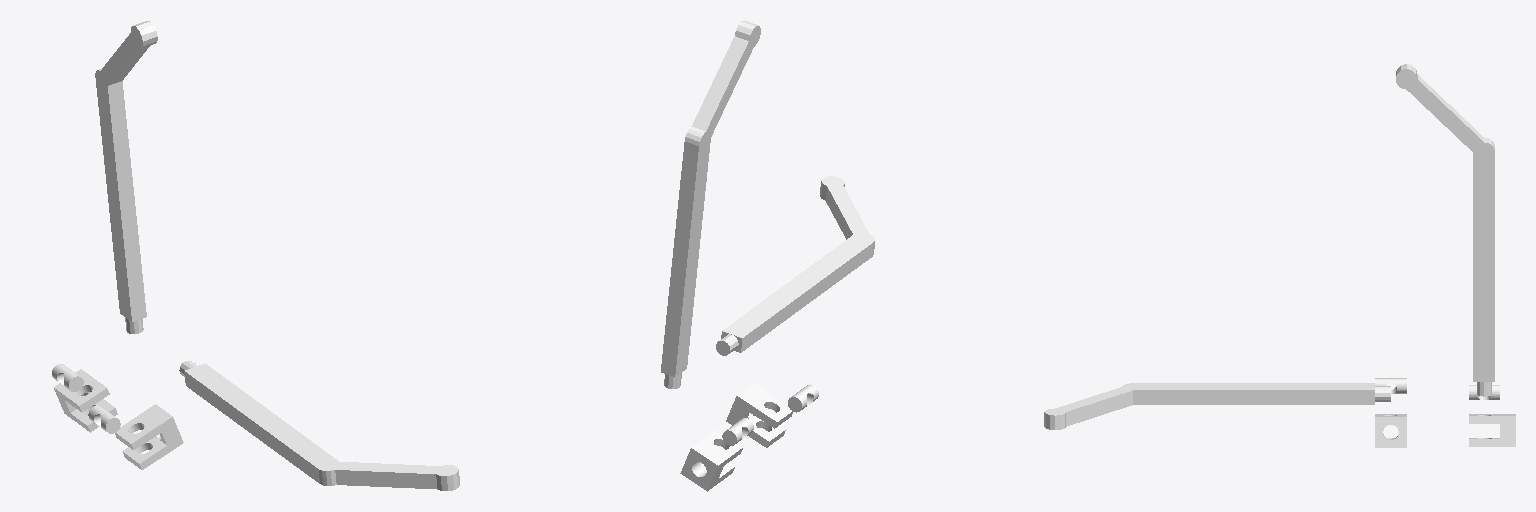
URDF robot description (leg-1):
<?xml version="1.0" encoding="utf-8"?>
<!-- This URDF was automatically created by SolidWorks to URDF Exporter! Originally created by [author] ([email redacted]) 
     Commit Version: 1.6.0-1-g15f4949  Build Version: 1.6.7594.29634
     For more information, please see http://wiki.ros.org/sw_urdf_exporter -->
<robot
  name="leg-1">
  <link
    name="base_link">
    <inertial>
      <origin
        xyz="0.00500000000000839 -1.52655665885959E-16 2.26901830657766E-15"
        rpy="0 0 0" />
      <mass
        value="0.0714345133223539" />
      <inertia
        ixx="0.000107488517300069"
        ixy="-3.46140116465866E-22"
        ixz="2.79534425121075E-22"
        iyy="2.21940152659949E-05"
        iyz="4.12419664391761E-21"
        izz="8.64850772561134E-05" />
    </inertial>
    <visual>
      <origin
        xyz="0 0 0"
        rpy="0 0 0" />
      <geometry>
        <mesh
          filename="package://leg-1/meshes/base_link.STL" />
      </geometry>
      <material
        name="">
        <color
          rgba="0.792156862745098 0.819607843137255 0.933333333333333 1" />
      </material>
    </visual>
    <collision>
      <origin
        xyz="0 0 0"
        rpy="0 0 0" />
      <geometry>
        <mesh
          filename="package://leg-1/meshes/base_link.STL" />
      </geometry>
    </collision>
  </link>
  <link
    name="L_L_0">
    <inertial>
      <origin
        xyz="0.0347045724498886 6.93889390390723E-18 0"
        rpy="0 0 0" />
      <mass
        value="0.0287119470120282" />
      <inertia
        ixx="8.60004636787432E-06"
        ixy="-8.40317402851747E-22"
        ixz="4.7123889803847E-07"
        iyy="1.45035728084546E-05"
        iyz="-9.0904602929962E-22"
        izz="6.37861884682507E-06" />
    </inertial>
    <visual>
      <origin
        xyz="0 0 0"
        rpy="0 0 0" />
      <geometry>
        <mesh
          filename="package://leg-1/meshes/L_L_0.STL" />
      </geometry>
      <material
        name="">
        <color
          rgba="1 1 1 1" />
      </material>
    </visual>
    <collision>
      <origin
        xyz="0 0 0"
        rpy="0 0 0" />
      <geometry>
        <mesh
          filename="package://leg-1/meshes/L_L_0.STL" />
      </geometry>
    </collision>
  </link>
  <joint
    name="J_L_0"
    type="continuous">
    <origin
      xyz="0 -0.0300000000000002 0"
      rpy="0 0 0" />
    <parent
      link="base_link" />
    <child
      link="L_L_0" />
    <axis
      xyz="-1 0 0" />
  </joint>
  <link
    name="L_L_1">
    <inertial>
      <origin
        xyz="0.055 -2.60208521396521E-18 2.77555756156289E-16"
        rpy="0 0 0" />
      <mass
        value="0.0117853981633975" />
      <inertia
        ixx="1.94787056549548E-07"
        ixy="1.49554254749587E-21"
        ixz="-3.71771611790501E-22"
        iyy="1.37539498341602E-05"
        iyz="-5.50007019477419E-23"
        izz="1.37523135879864E-05" />
    </inertial>
    <visual>
      <origin
        xyz="0 0 0"
        rpy="0 0 0" />
      <geometry>
        <mesh
          filename="package://leg-1/meshes/L_L_1.STL" />
      </geometry>
      <material
        name="">
        <color
          rgba="1 1 1 1" />
      </material>
    </visual>
    <collision>
      <origin
        xyz="0 0 0"
        rpy="0 0 0" />
      <geometry>
        <mesh
          filename="package://leg-1/meshes/L_L_1.STL" />
      </geometry>
    </collision>
  </link>
  <joint
    name="J_L_1"
    type="continuous">
    <origin
      xyz="0.02 0 -0.02"
      rpy="1.5707963267949 1.1930252649831 0" />
    <parent
      link="L_L_0" />
    <child
      link="L_L_1" />
    <axis
      xyz="0 0 -1" />
  </joint>
  <link
    name="L_L_2">
    <inertial>
      <origin
        xyz="0.0300000000000002 -1.04083408558608E-16 2.42861286636753E-16"
        rpy="0 0 0" />
      <mass
        value="0.00678539816339746" />
      <inertia
        ixx="1.11453723216213E-07"
        ixy="4.38405724653105E-23"
        ixz="1.06732828936123E-22"
        iyy="2.66831207027392E-06"
        iyz="-1.08522797058199E-23"
        izz="2.66667582410018E-06" />
    </inertial>
    <visual>
      <origin
        xyz="0 0 0"
        rpy="0 0 0" />
      <geometry>
        <mesh
          filename="package://leg-1/meshes/L_L_2.STL" />
      </geometry>
      <material
        name="">
        <color
          rgba="1 1 1 1" />
      </material>
    </visual>
    <collision>
      <origin
        xyz="0 0 0"
        rpy="0 0 0" />
      <geometry>
        <mesh
          filename="package://leg-1/meshes/L_L_2.STL" />
      </geometry>
    </collision>
  </link>
  <joint
    name="J_L_2"
    type="continuous">
    <origin
      xyz="0.05 0 0.02"
      rpy="1.5707963267949 -0.105433031631919 0" />
    <parent
      link="L_L_0" />
    <child
      link="L_L_2" />
    <axis
      xyz="0 0 -1" />
  </joint>
  <link
    name="L_L_3">
    <inertial>
      <origin
        xyz="0.0599999999999999 -1.38777878078145E-17 2.42861286636753E-16"
        rpy="0 0 0" />
      <mass
        value="0.0127853981633975" />
      <inertia
        ixx="2.11453723216213E-07"
        ixy="-6.47268829322744E-23"
        ixz="1.8009833248511E-22"
        iyy="1.7538887111447E-05"
        iyz="2.88084954994868E-24"
        izz="1.75372508652733E-05" />
    </inertial>
    <visual>
      <origin
        xyz="0 0 0"
        rpy="0 0 0" />
      <geometry>
        <mesh
          filename="package://leg-1/meshes/L_L_3.STL" />
      </geometry>
      <material
        name="">
        <color
          rgba="1 1 1 1" />
      </material>
    </visual>
    <collision>
      <origin
        xyz="0 0 0"
        rpy="0 0 0" />
      <geometry>
        <mesh
          filename="package://leg-1/meshes/L_L_3.STL" />
      </geometry>
    </collision>
  </link>
  <joint
    name="J_L_3"
    type="continuous">
    <origin
      xyz="0.0600000000000002 0 0"
      rpy="0 0 -1.69372933441083" />
    <parent
      link="L_L_2" />
    <child
      link="L_L_3" />
    <axis
      xyz="0 0 -1" />
  </joint>
  <link
    name="L_R_0">
    <inertial>
      <origin
        xyz="0.0347045724498886 1.38777878078145E-17 6.93889390390723E-18"
        rpy="0 0 0" />
      <mass
        value="0.0287119470120282" />
      <inertia
        ixx="8.60004636787433E-06"
        ixy="3.66338637434803E-22"
        ixz="4.71238898038473E-07"
        iyy="1.45035728084546E-05"
        iyz="-1.00827065219892E-21"
        izz="6.37861884682508E-06" />
    </inertial>
    <visual>
      <origin
        xyz="0 0 0"
        rpy="0 0 0" />
      <geometry>
        <mesh
          filename="package://leg-1/meshes/L_R_0.STL" />
      </geometry>
      <material
        name="">
        <color
          rgba="1 1 1 1" />
      </material>
    </visual>
    <collision>
      <origin
        xyz="0 0 0"
        rpy="0 0 0" />
      <geometry>
        <mesh
          filename="package://leg-1/meshes/L_R_0.STL" />
      </geometry>
    </collision>
  </link>
  <joint
    name="J_R_0"
    type="continuous">
    <origin
      xyz="0 0.0299999999999998 0"
      rpy="0 0 0" />
    <parent
      link="base_link" />
    <child
      link="L_R_0" />
    <axis
      xyz="-1 0 0" />
  </joint>
  <link
    name="L_R_1">
    <inertial>
      <origin
        xyz="0.055 -2.60208521396521E-18 2.77555756156289E-17"
        rpy="0 0 0" />
      <mass
        value="0.0117853981633974" />
      <inertia
        ixx="1.94787056549545E-07"
        ixy="6.81596824743695E-22"
        ixz="-2.13869524916916E-22"
        iyy="1.37539498341602E-05"
        iyz="-4.95780048310639E-24"
        izz="1.37523135879864E-05" />
    </inertial>
    <visual>
      <origin
        xyz="0 0 0"
        rpy="0 0 0" />
      <geometry>
        <mesh
          filename="package://leg-1/meshes/L_R_1.STL" />
      </geometry>
      <material
        name="">
        <color
          rgba="1 1 1 1" />
      </material>
    </visual>
    <collision>
      <origin
        xyz="0 0 0"
        rpy="0 0 0" />
      <geometry>
        <mesh
          filename="package://leg-1/meshes/L_R_1.STL" />
      </geometry>
    </collision>
  </link>
  <joint
    name="J_R_1"
    type="continuous">
    <origin
      xyz="0.02 0 -0.0199999999999999"
      rpy="-1.57079632679489 1.1930252649831 0" />
    <parent
      link="L_R_0" />
    <child
      link="L_R_1" />
    <axis
      xyz="0 0 1" />
  </joint>
  <link
    name="L_R_2">
    <inertial>
      <origin
        xyz="0.0300000000000002 -9.71445146547012E-17 -2.77555756156289E-17"
        rpy="0 0 0" />
      <mass
        value="0.00678539816339745" />
      <inertia
        ixx="1.11453723216213E-07"
        ixy="0"
        ixz="1.44873085317511E-22"
        iyy="2.66831207027392E-06"
        iyz="-2.54756782238847E-23"
        izz="2.66667582410017E-06" />
    </inertial>
    <visual>
      <origin
        xyz="0 0 0"
        rpy="0 0 0" />
      <geometry>
        <mesh
          filename="package://leg-1/meshes/L_R_2.STL" />
      </geometry>
      <material
        name="">
        <color
          rgba="1 1 1 1" />
      </material>
    </visual>
    <collision>
      <origin
        xyz="0 0 0"
        rpy="0 0 0" />
      <geometry>
        <mesh
          filename="package://leg-1/meshes/L_R_2.STL" />
      </geometry>
    </collision>
  </link>
  <joint
    name="J_R_2"
    type="continuous">
    <origin
      xyz="0.05 0 0.02"
      rpy="1.5707963267949 -0.105433031631919 0" />
    <parent
      link="L_R_0" />
    <child
      link="L_R_2" />
    <axis
      xyz="0 0 -1" />
  </joint>
  <link
    name="L_R_3">
    <inertial>
      <origin
        xyz="0.06 1.38777878078145E-17 -5.55111512312578E-17"
        rpy="0 0 0" />
      <mass
        value="0.0127853981633974" />
      <inertia
        ixx="2.11453723216212E-07"
        ixy="3.48656628191101E-22"
        ixz="1.27630711144238E-22"
        iyy="1.7538887111447E-05"
        iyz="8.6574693929884E-24"
        izz="1.75372508652733E-05" />
    </inertial>
    <visual>
      <origin
        xyz="0 0 0"
        rpy="0 0 0" />
      <geometry>
        <mesh
          filename="package://leg-1/meshes/L_R_3.STL" />
      </geometry>
      <material
        name="">
        <color
          rgba="1 1 1 1" />
      </material>
    </visual>
    <collision>
      <origin
        xyz="0 0 0"
        rpy="0 0 0" />
      <geometry>
        <mesh
          filename="package://leg-1/meshes/L_R_3.STL" />
      </geometry>
    </collision>
  </link>
  <joint
    name="J_R_3"
    type="continuous">
    <origin
      xyz="0.0600000000000002 0 0"
      rpy="0 0 -1.69372933441082" />
    <parent
      link="L_R_2" />
    <child
      link="L_R_3" />
    <axis
      xyz="0 0 -1" />
  </joint>
</robot>

--- Facts derived from the render (not from the file) ---
3 views of the same robot in one strip: view 1: azimuth 30°, elevation 25°; view 2: azimuth 150°, elevation 25°; view 3: azimuth 270°, elevation 25° (orthographic).
Robot: leg-1 — 9 links, 8 joints (8 continuous); root link base_link; default pose: every joint at zero.
Links seen in each view (by area): view 1: L_L_2, L_R_2, L_L_1, L_R_1, L_L_0, L_R_0; view 2: L_R_2, L_L_2, L_L_1, L_R_1, L_R_0; view 3: L_R_2, L_L_2, L_R_1, L_L_1.
Link boxes in pixels (<box>): L_L_2: <box>179,360,459,490</box>; L_R_2: <box>95,21,157,333</box>; L_L_1: <box>115,404,183,469</box>; L_R_1: <box>54,369,117,432</box>; L_L_0: <box>88,405,120,433</box>; L_R_0: <box>52,364,83,391</box>; L_R_2: <box>661,21,760,388</box>; L_L_2: <box>716,176,874,355</box>; L_L_1: <box>726,383,792,447</box>; L_R_1: <box>680,429,742,491</box>; L_R_0: <box>722,418,753,445</box>; L_R_2: <box>1396,64,1494,396</box>; L_L_2: <box>1044,383,1390,429</box>; L_R_1: <box>1469,414,1515,446</box>; L_L_1: <box>1375,414,1406,447</box>.
Bounding box of the posed robot: 0.1173 × 0.3026 × 0.2749 m (x, y, z).
6 mesh visuals loaded from 9 distinct referenced files (6 binary STL); not drawn: 3 (reference not matched to a file when rendering).